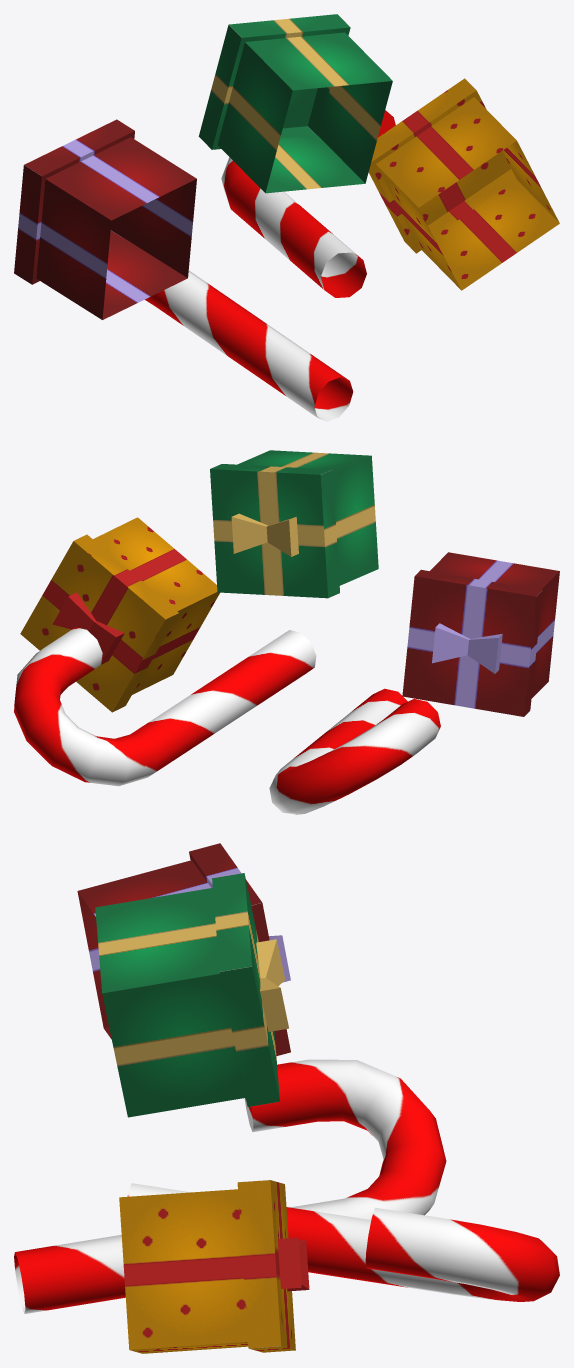
The model's file is EnviroSet1.fbx.
The picture shows the model from 3 angles, top to bottom: view 1: azimuth 30°, elevation 25°; view 2: azimuth 150°, elevation 25°; view 3: azimuth 270°, elevation 25°; orthographic projection. The views are drawn at different scales.
Parts seen in each view (by area): view 1: Present1, Present2, Present3, Candy.001, Candy; view 2: Present2, Present3, Present1, Candy, Candy.001; view 3: Present2, Present3, Candy.001, Candy, Present1.
Part boxes in pixels (x1=…): Present1: x1=14, y1=119, x2=196, y2=319; Present2: x1=198, y1=14, x2=392, y2=193; Present3: x1=368, y1=78, x2=559, y2=290; Candy.001: x1=145, y1=270, x2=353, y2=421; Candy: x1=221, y1=110, x2=395, y2=297; Present2: x1=210, y1=450, x2=378, y2=598; Present3: x1=20, y1=517, x2=219, y2=712; Present1: x1=402, y1=552, x2=559, y2=716; Candy: x1=14, y1=627, x2=316, y2=786; Candy.001: x1=269, y1=688, x2=440, y2=814; Present2: x1=95, y1=873, x2=288, y2=1117; Present3: x1=119, y1=1180, x2=309, y2=1353; Candy.001: x1=14, y1=1059, x2=446, y2=1313; Candy: x1=127, y1=1183, x2=559, y2=1301; Present1: x1=77, y1=843, x2=290, y2=1056.
Bounding box in the file's own units: 1.51 × 2.4 × 1.75.
